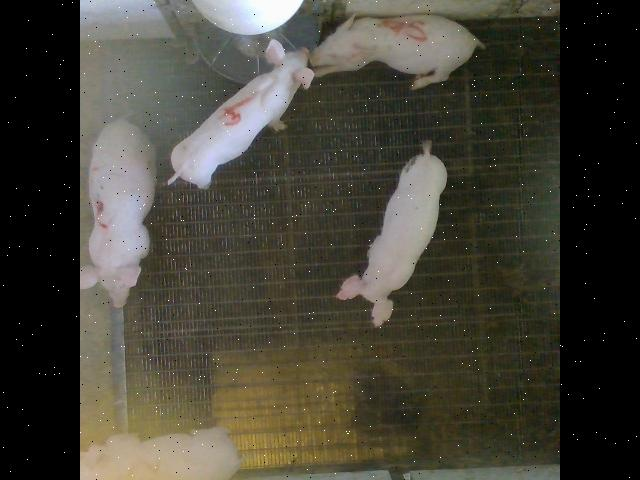pig-2: (82, 426, 241, 480)
pig-3: (81, 118, 156, 305)
pig-4: (168, 39, 315, 188)
pig-5: (309, 15, 484, 89)
